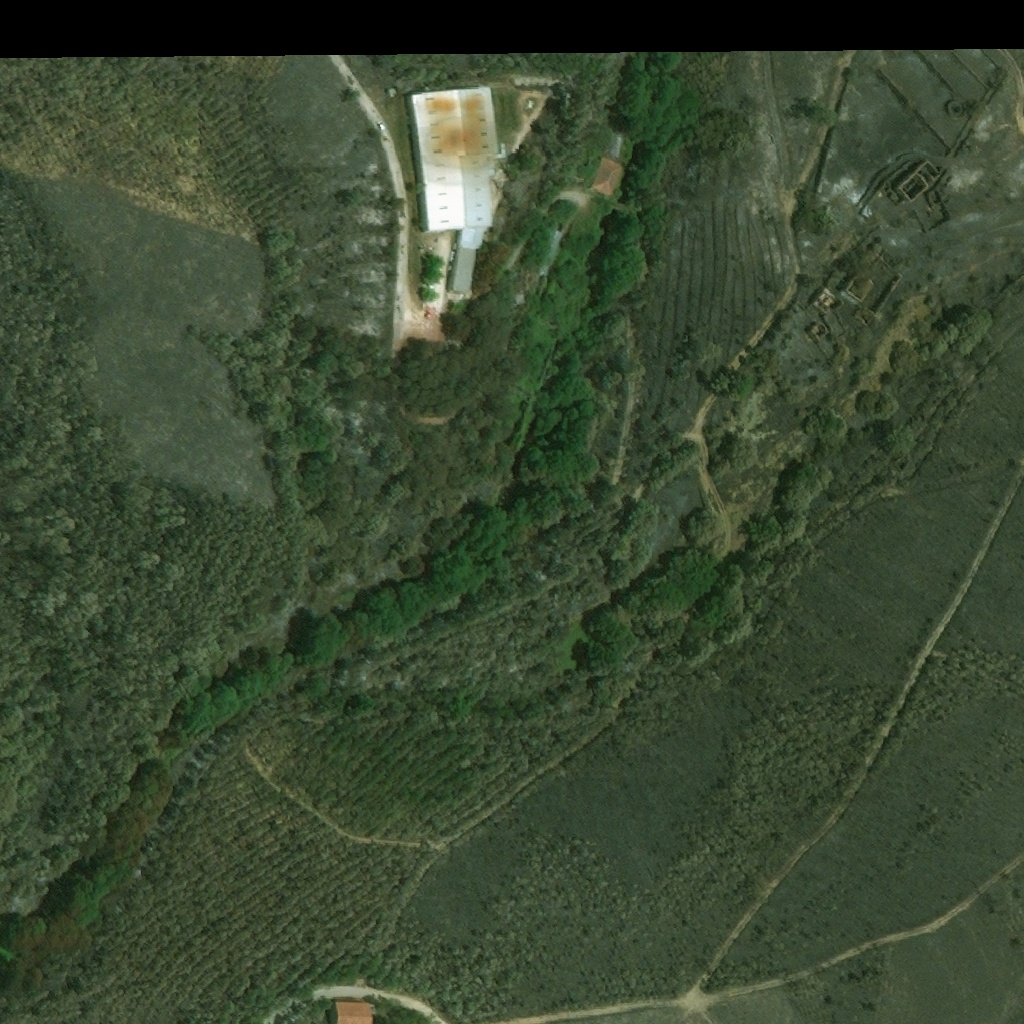0 no-damage: (410, 86, 502, 232), (445, 227, 485, 296), (534, 229, 561, 278), (591, 159, 622, 197), (329, 1001, 375, 1023), (512, 295, 523, 307)
3 destroyed: (811, 286, 842, 318), (808, 321, 830, 343)
